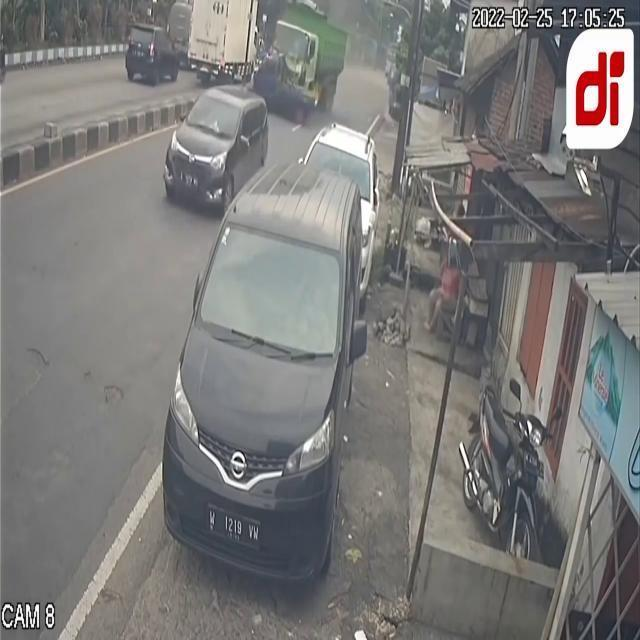accident: (250, 0, 348, 122)
non-accident: (161, 84, 367, 586), (162, 122, 380, 594)
